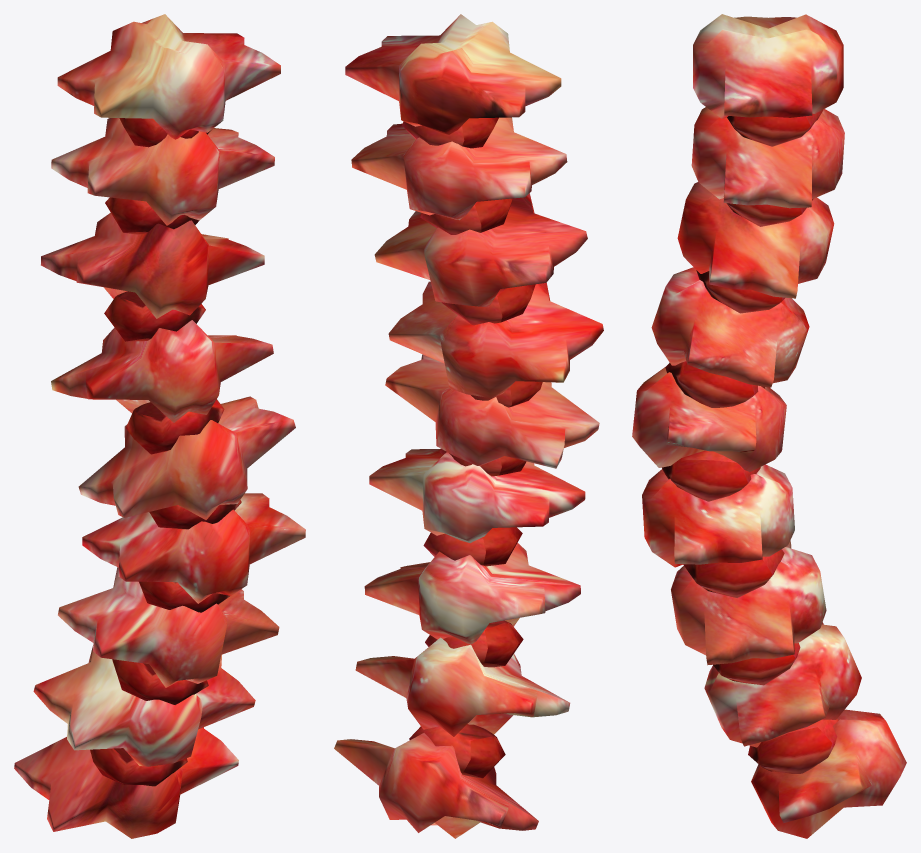
The model's file is male_spine.fbx.
3 renders of one model, left to right at view 1: azimuth 30°, elevation 25°; view 2: azimuth 150°, elevation 25°; view 3: azimuth 270°, elevation 25°, orthographic. The views are drawn at different scales.
Parts seen in each view (by area): view 1: spinalcord; view 2: spinalcord; view 3: spinalcord.
Part boxes in pixels (left/top/right/bottom): spinalcord: left=14, top=14, right=305, bottom=838; spinalcord: left=334, top=14, right=603, bottom=838; spinalcord: left=632, top=14, right=906, bottom=838.
Size of the model in its own units: 0.1097 by 0.4147 by 0.1264.
